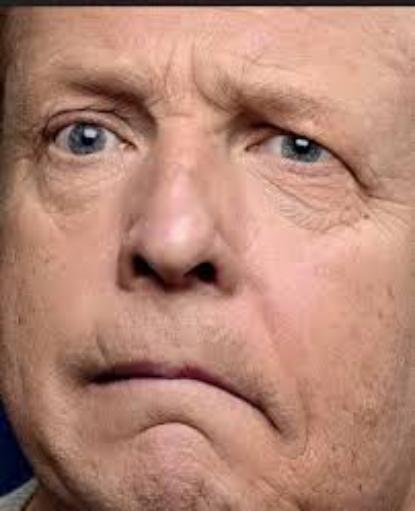left_eye: (249, 122, 342, 169)
left_lip_corner: (218, 372, 272, 421)
right_eye: (46, 119, 134, 165)
right_lip_corner: (71, 363, 113, 395)
